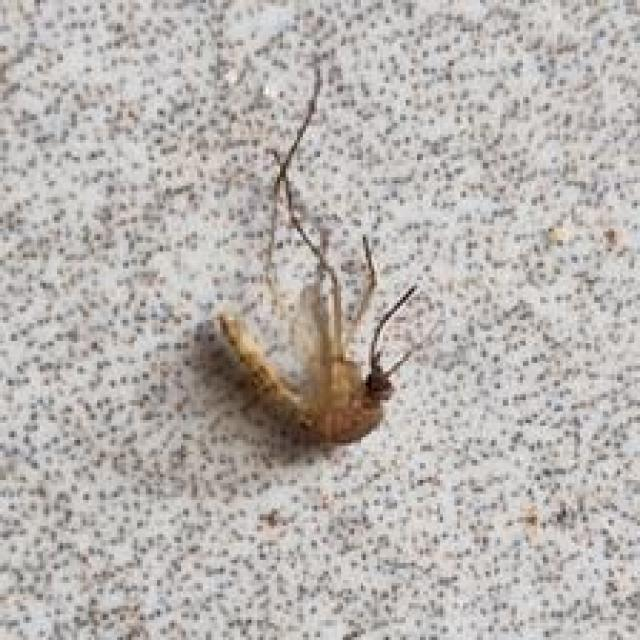Culex: (211, 50, 423, 447)
